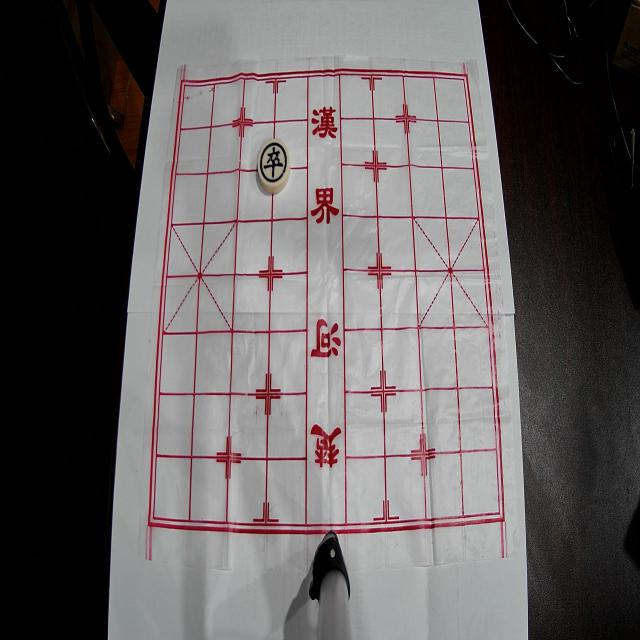black-soldier: (258, 138, 290, 194)
